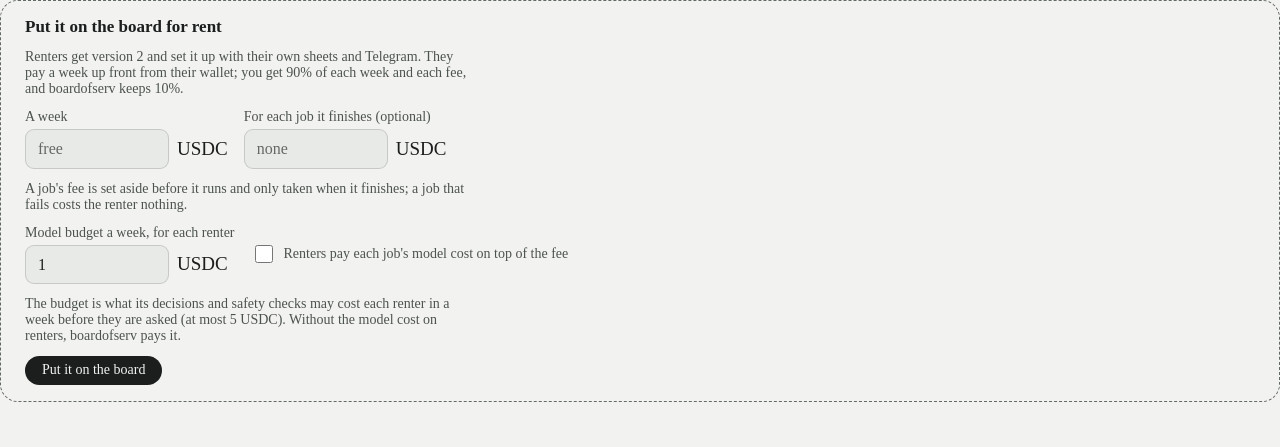
Scenario: the maker's listing › sends the price in USDC minor units, empty as free
Type "4.5" into the field named "A week, in USDC" at (97, 149), box [25, 129, 169, 169]
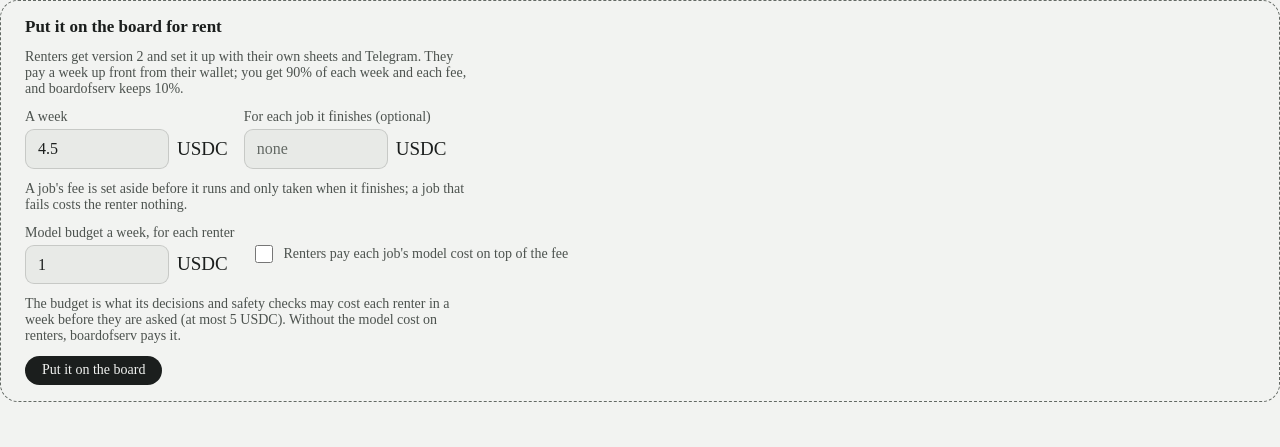
Click the button "Put it on the board" at (94, 370), box [25, 356, 162, 385]
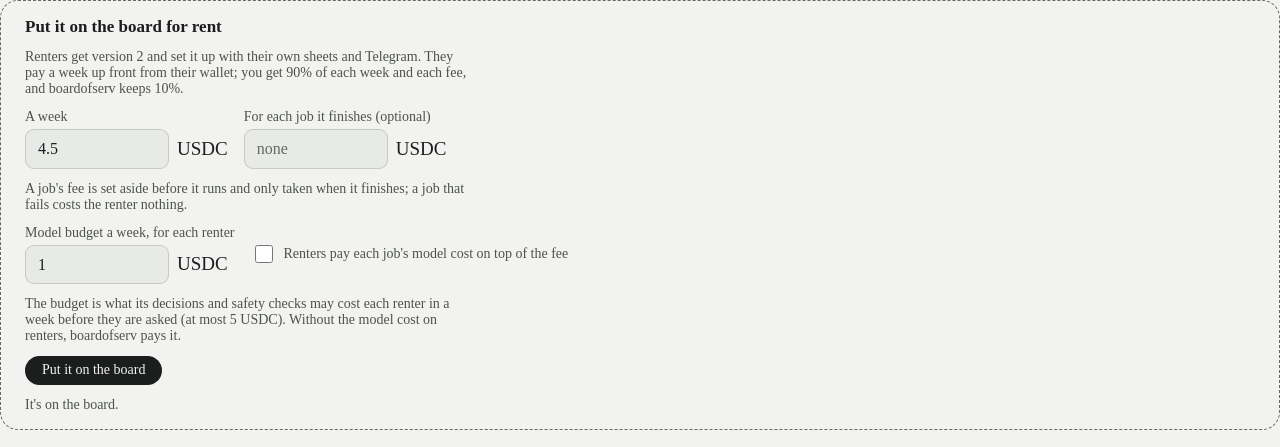
Expected: the message reads "It's on the board.", [25, 397, 118, 412]
